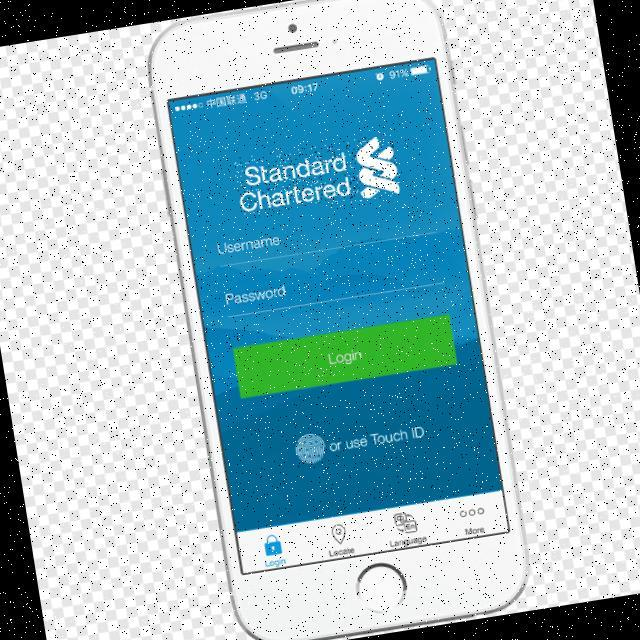Standard Chartered: (233, 134, 402, 220)
